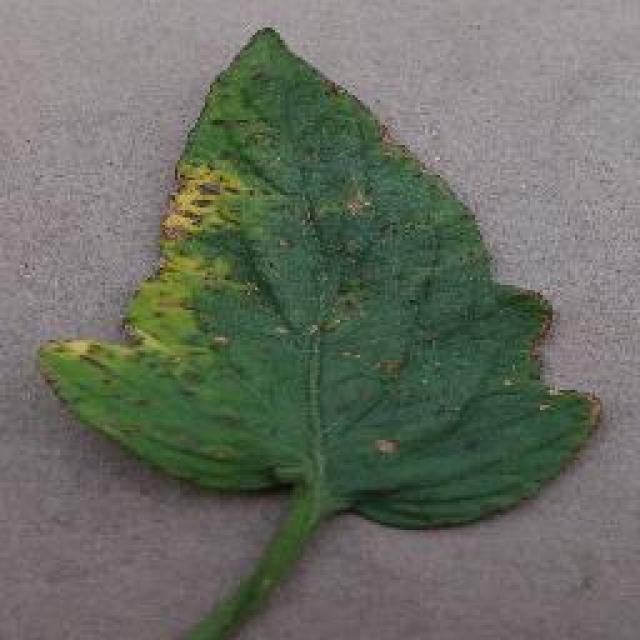bacterial spot: (38, 23, 604, 634)
